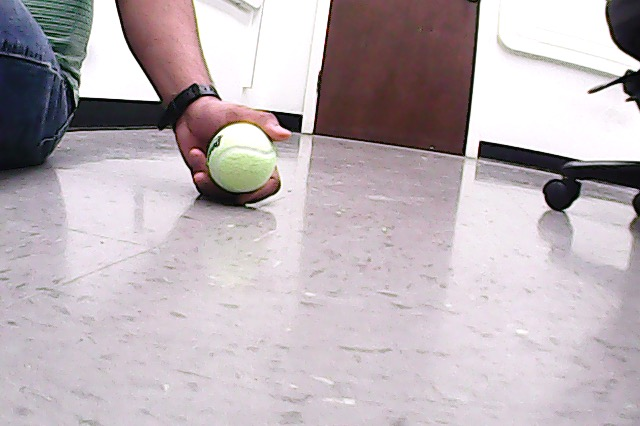ball: (203, 121, 279, 196)
